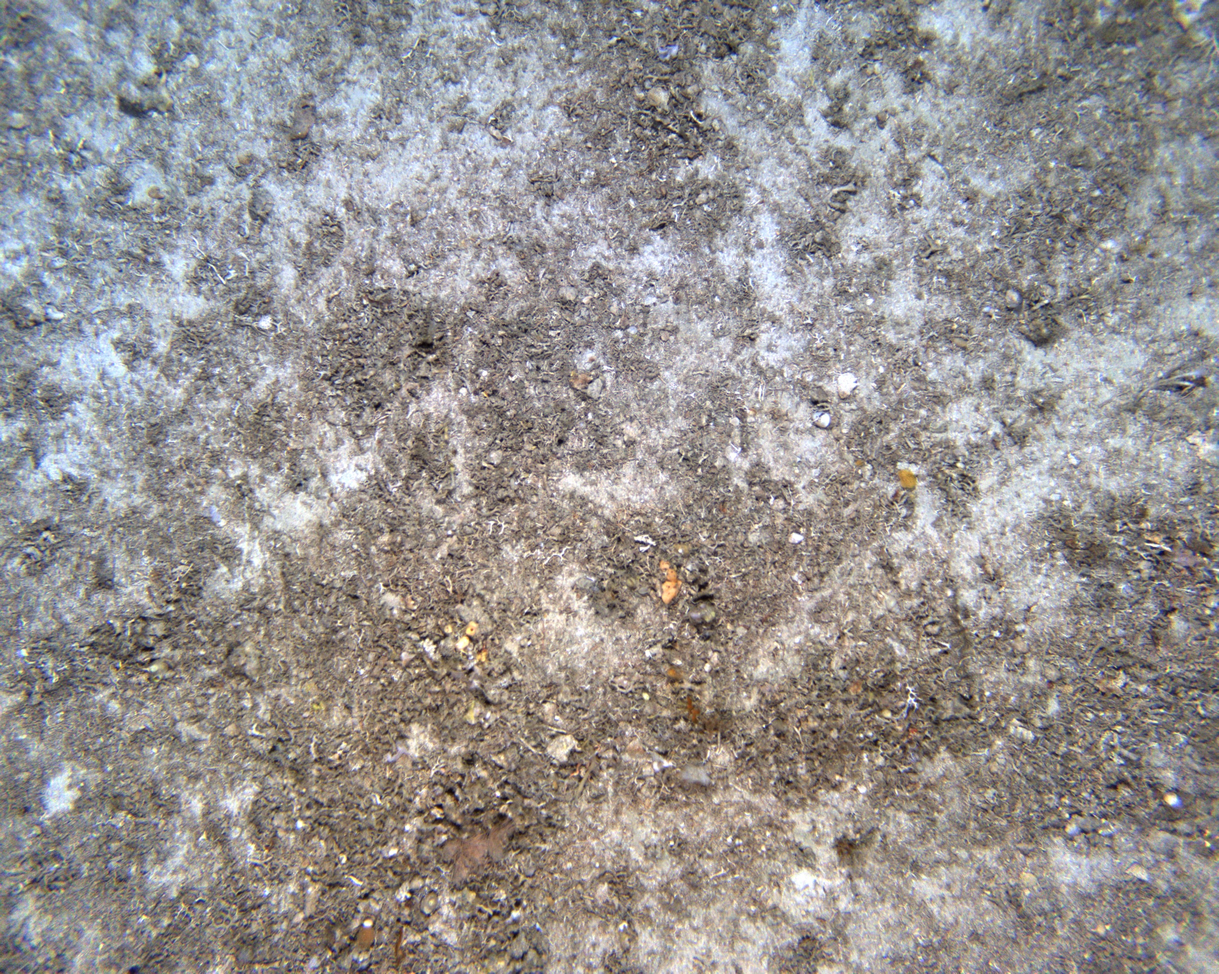Brachionichthyidae: (1131, 363, 1213, 409)
